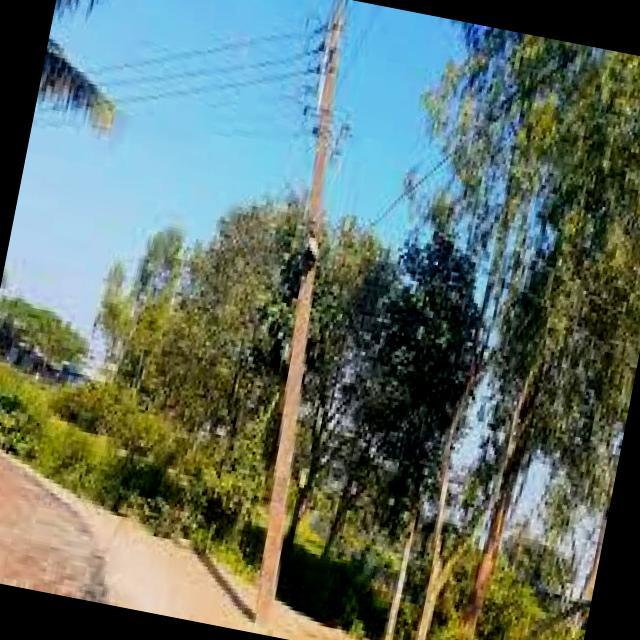light_pole: (232, 116, 418, 384)
